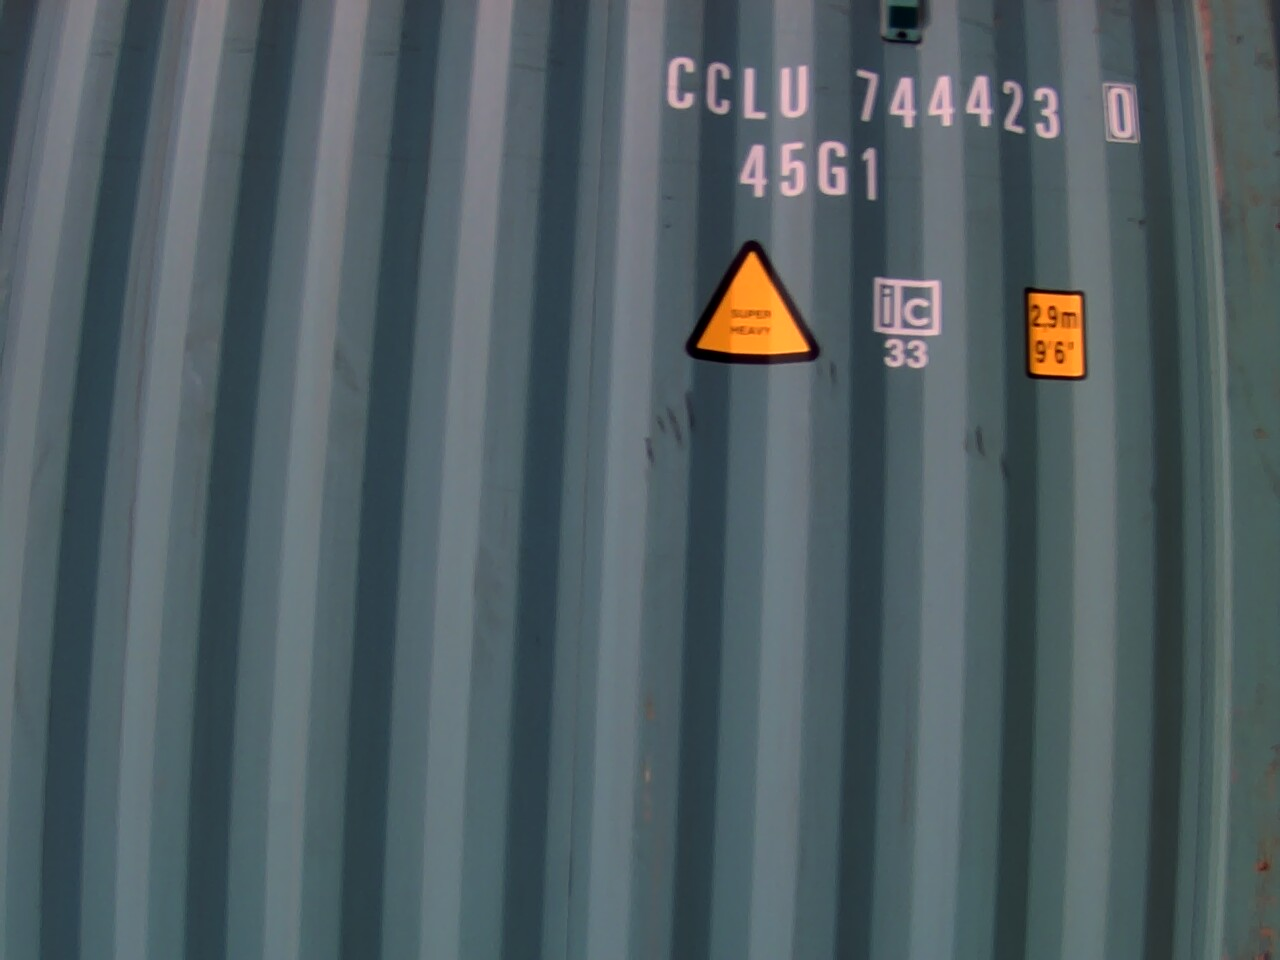container_no_door: (32, 6, 1149, 949)
